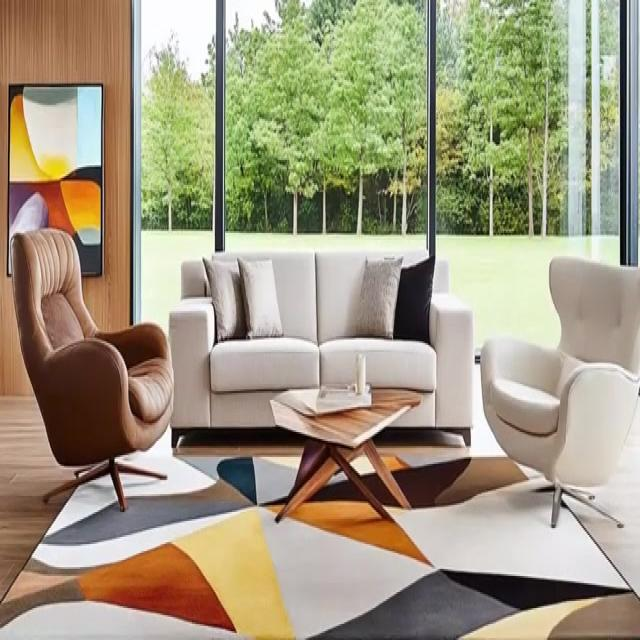obstacle: (168, 247, 474, 452), (10, 226, 173, 512), (480, 254, 639, 528), (269, 384, 421, 524)
